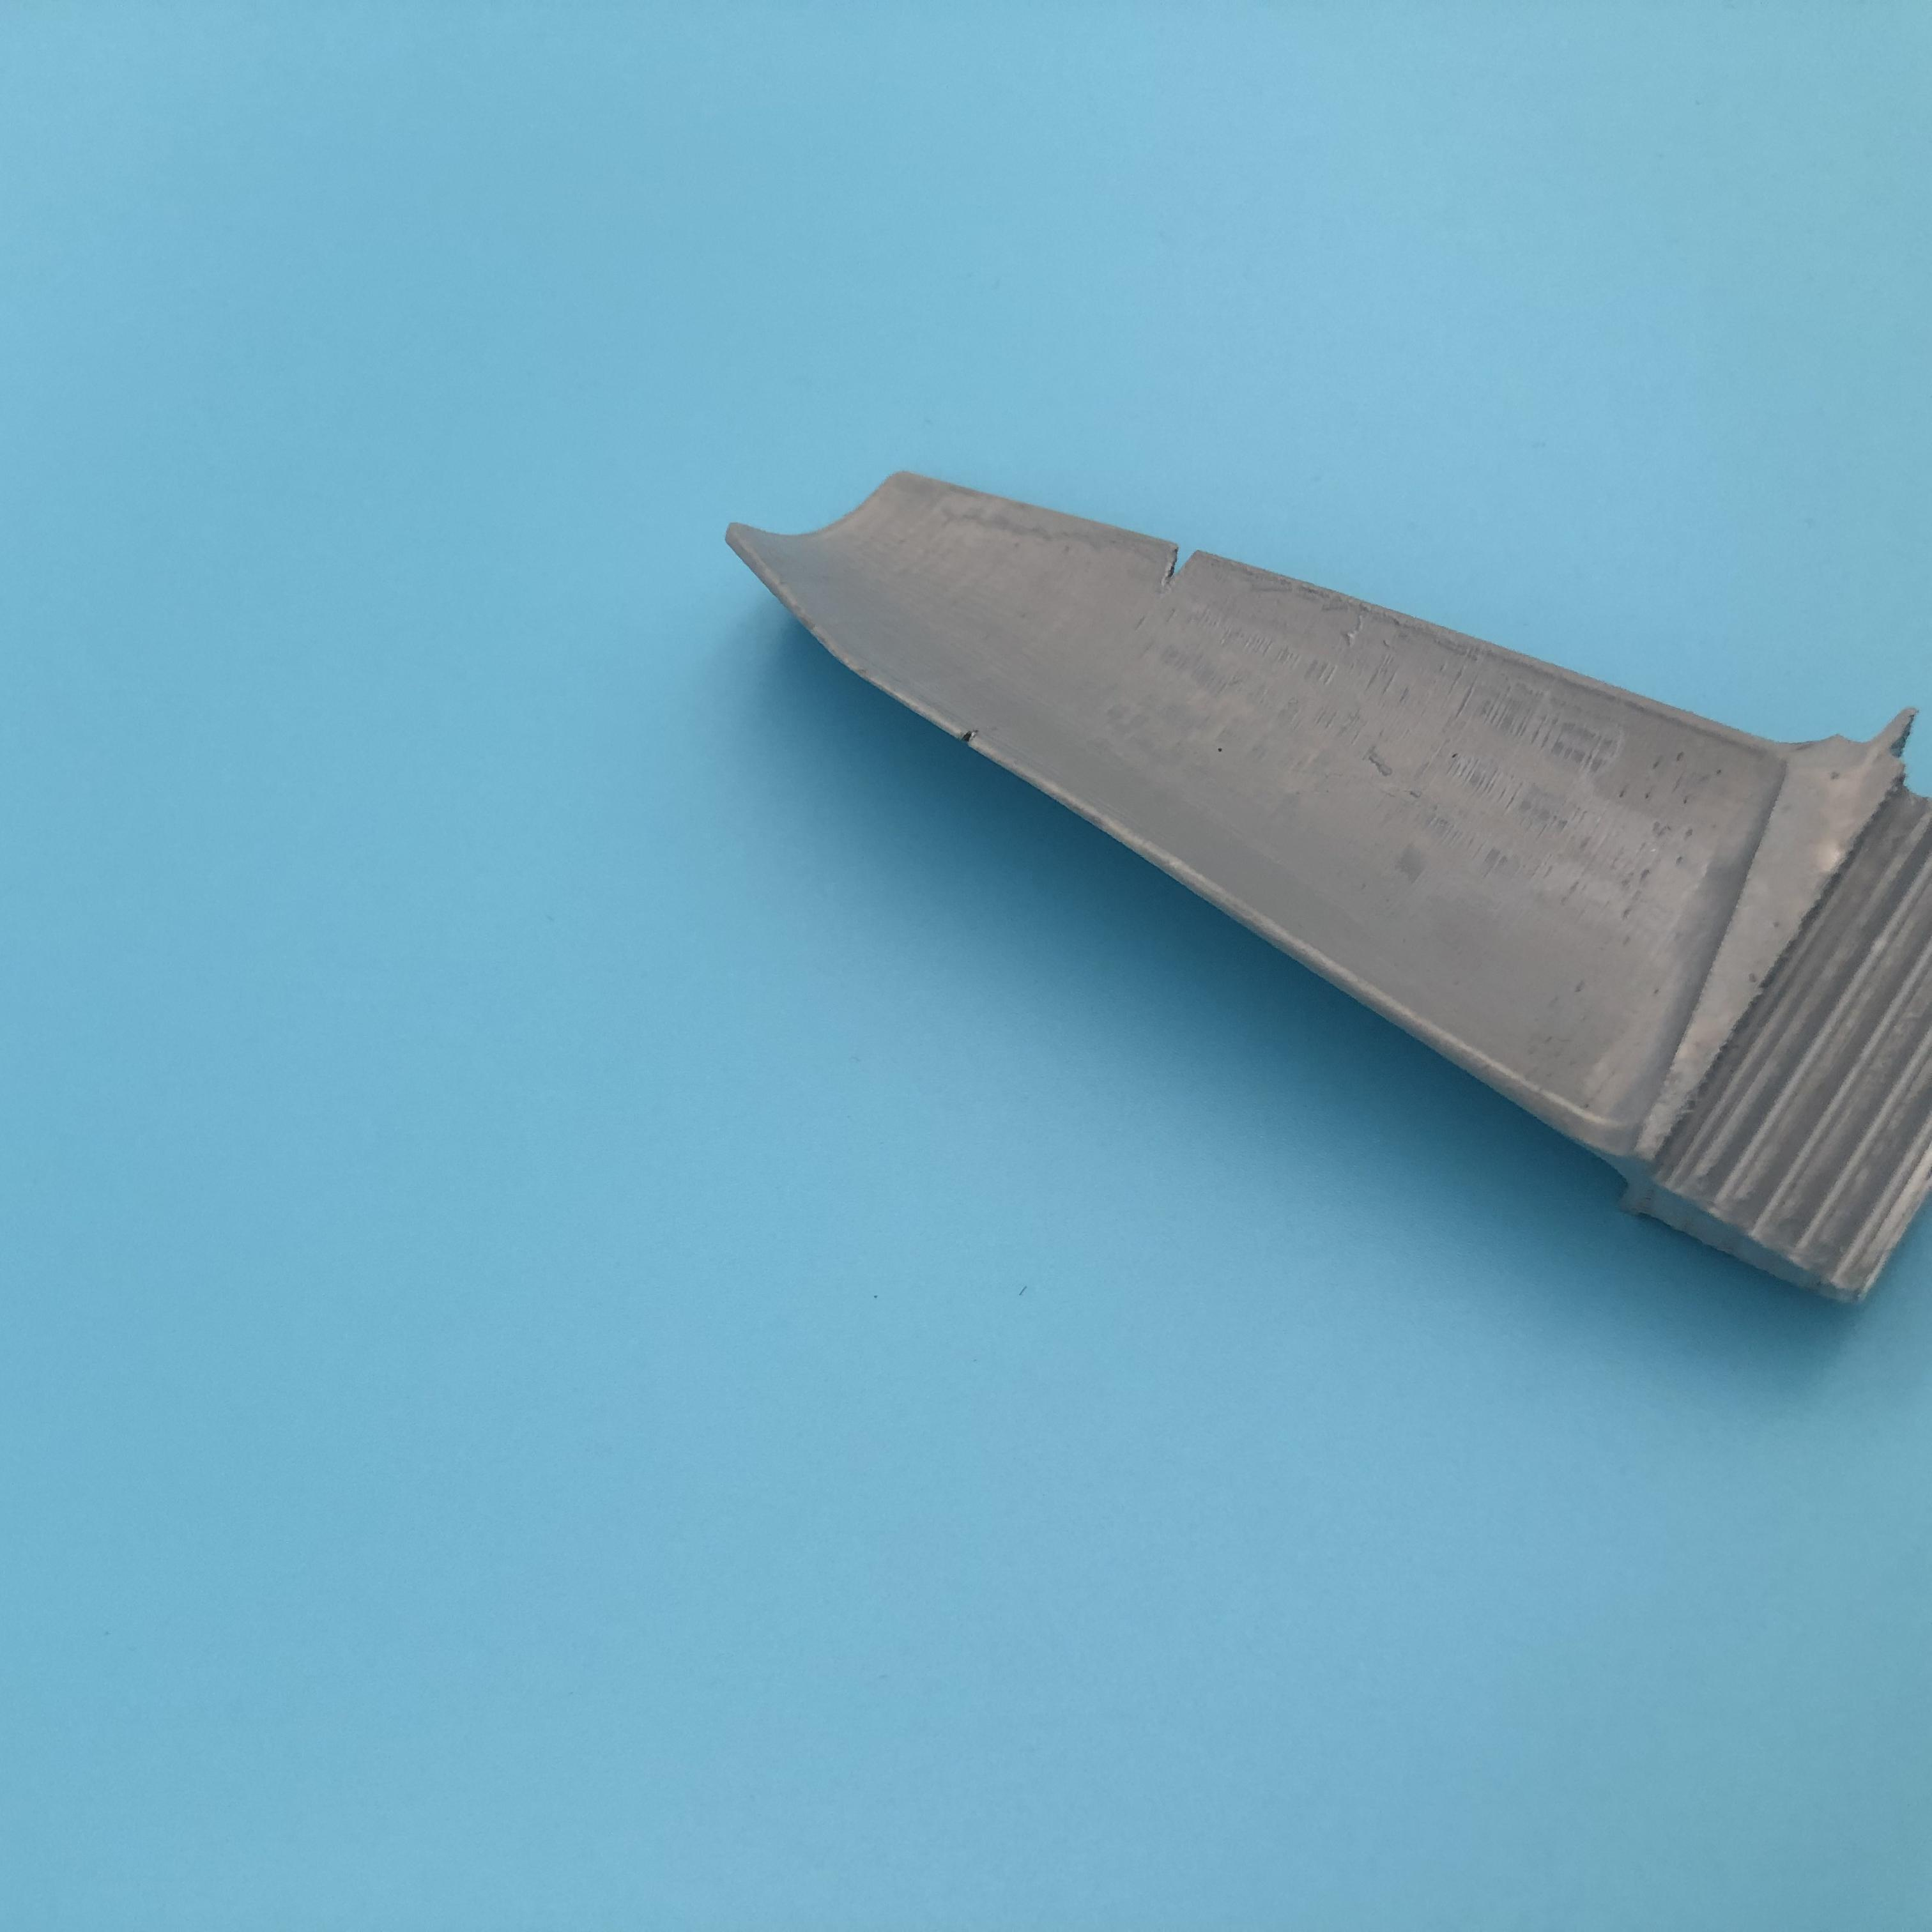groove: (1157, 536, 1212, 600), (948, 717, 996, 761)
